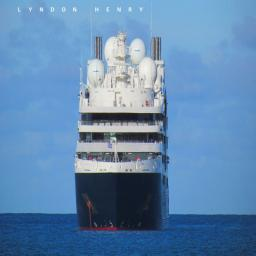cruises: (73, 30, 174, 234)
